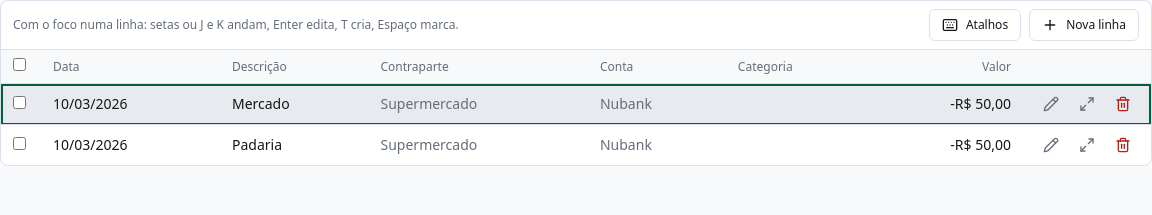
Scenario: abrir outra linha para editar fecha a anterior
Press Enter
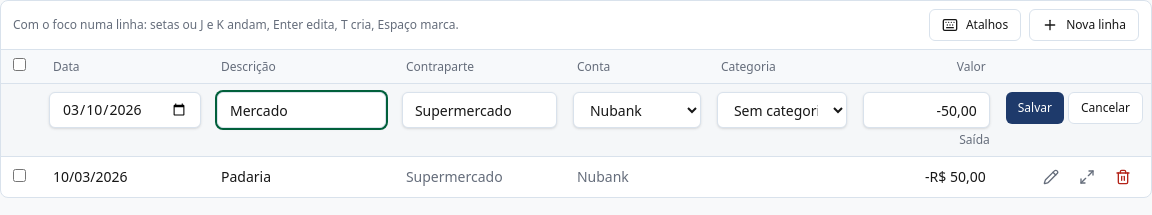
Click the button named "Editar Padaria" at (1051, 177), box [1035,161,1067,193]
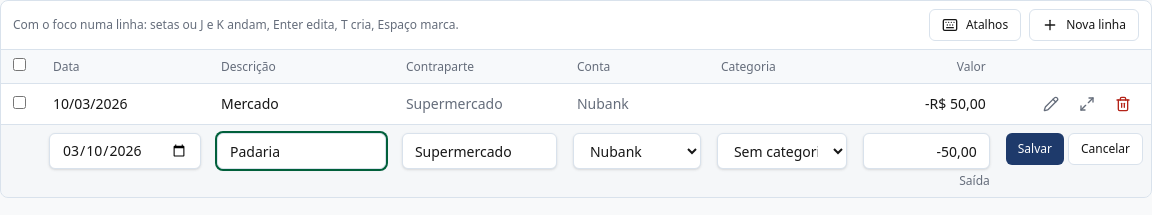
Result: the row named "Editando Padaria" is shown at [1,124,1151,197]
